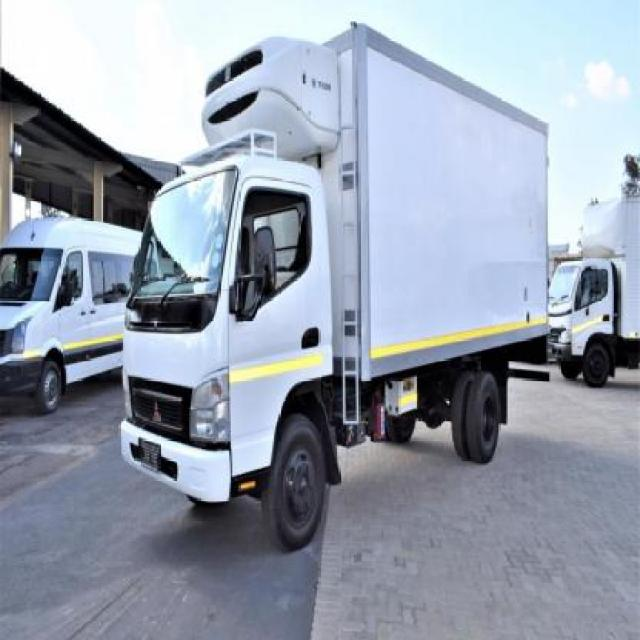truck: (120, 26, 551, 549), (550, 200, 640, 376)
